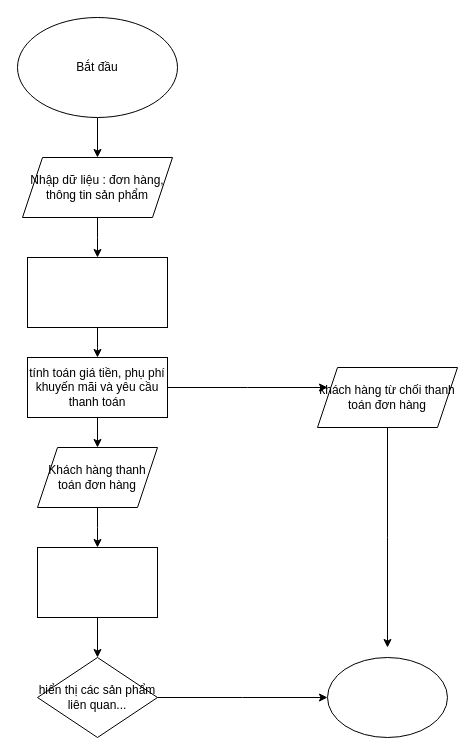
The diagram is 475 pixels wide and 755 high, and some of its shapes have lost their labels. Each missing label, with the centre of its shape:
Kết thúc giao dịch: the point at 387,697
lưu trữ đơn hàng, dữ liệu người dùng: the point at 97,582
Xử lí dữ dữ liệu, kiểm tra mặt hàng: the point at 97,292
